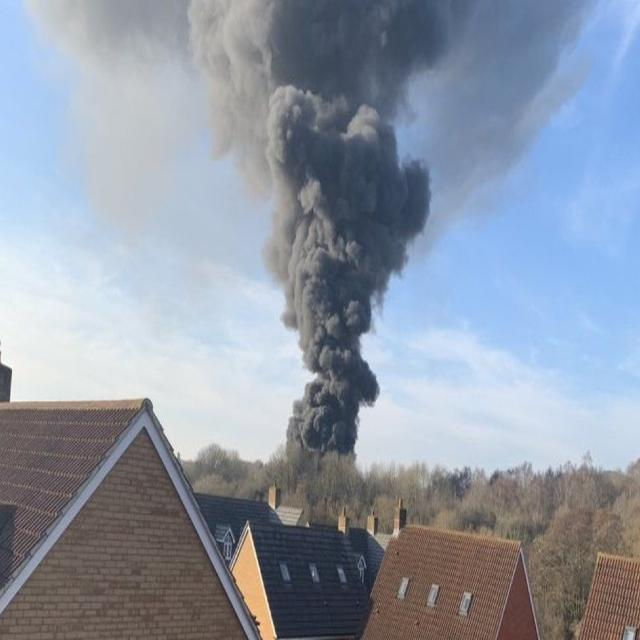Smoke: (189, 0, 437, 453)
